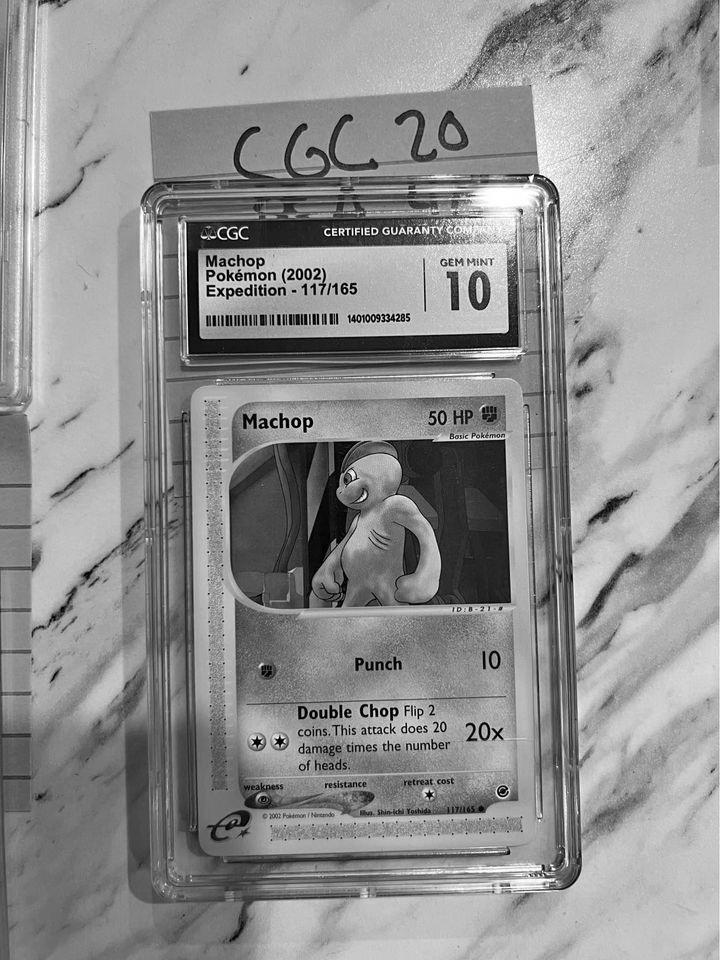card: (190, 376, 540, 858)
